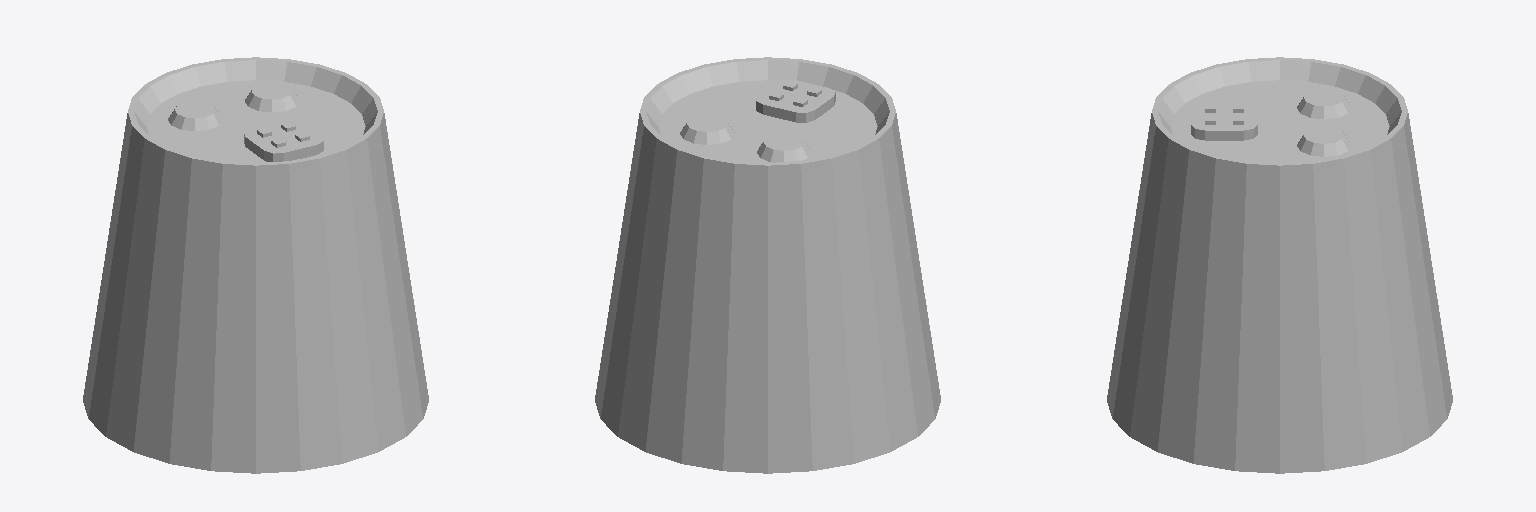
File: Gemini_Port_A.obj
The picture shows the model from 3 angles: view 1: azimuth 30°, elevation 25°; view 2: azimuth 150°, elevation 25°; view 3: azimuth 270°, elevation 25°; orthographic projection.
Parts seen in each view (by area): view 1: Gemini_Port_A; view 2: Gemini_Port_A; view 3: Gemini_Port_A.
Boxes of the visible parts, x1,y1,x2,y2 form: Gemini_Port_A: [83, 57, 428, 473]; Gemini_Port_A: [595, 57, 940, 473]; Gemini_Port_A: [1107, 57, 1452, 473].
Size of the model in its own units: 0.625 by 0.575 by 0.625.